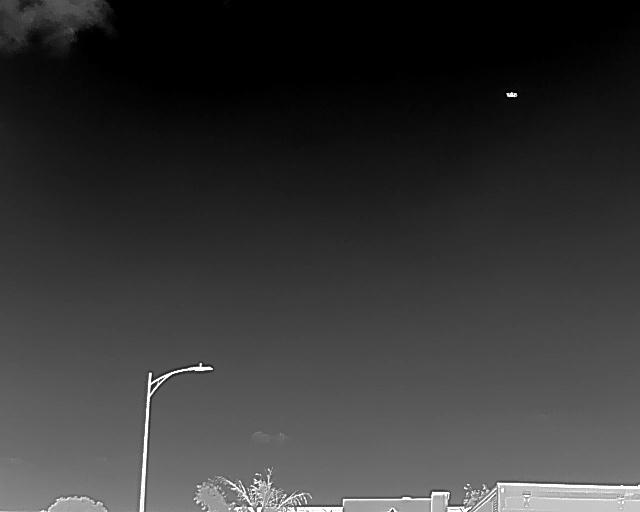fpv-drone: (505, 91, 517, 98)
